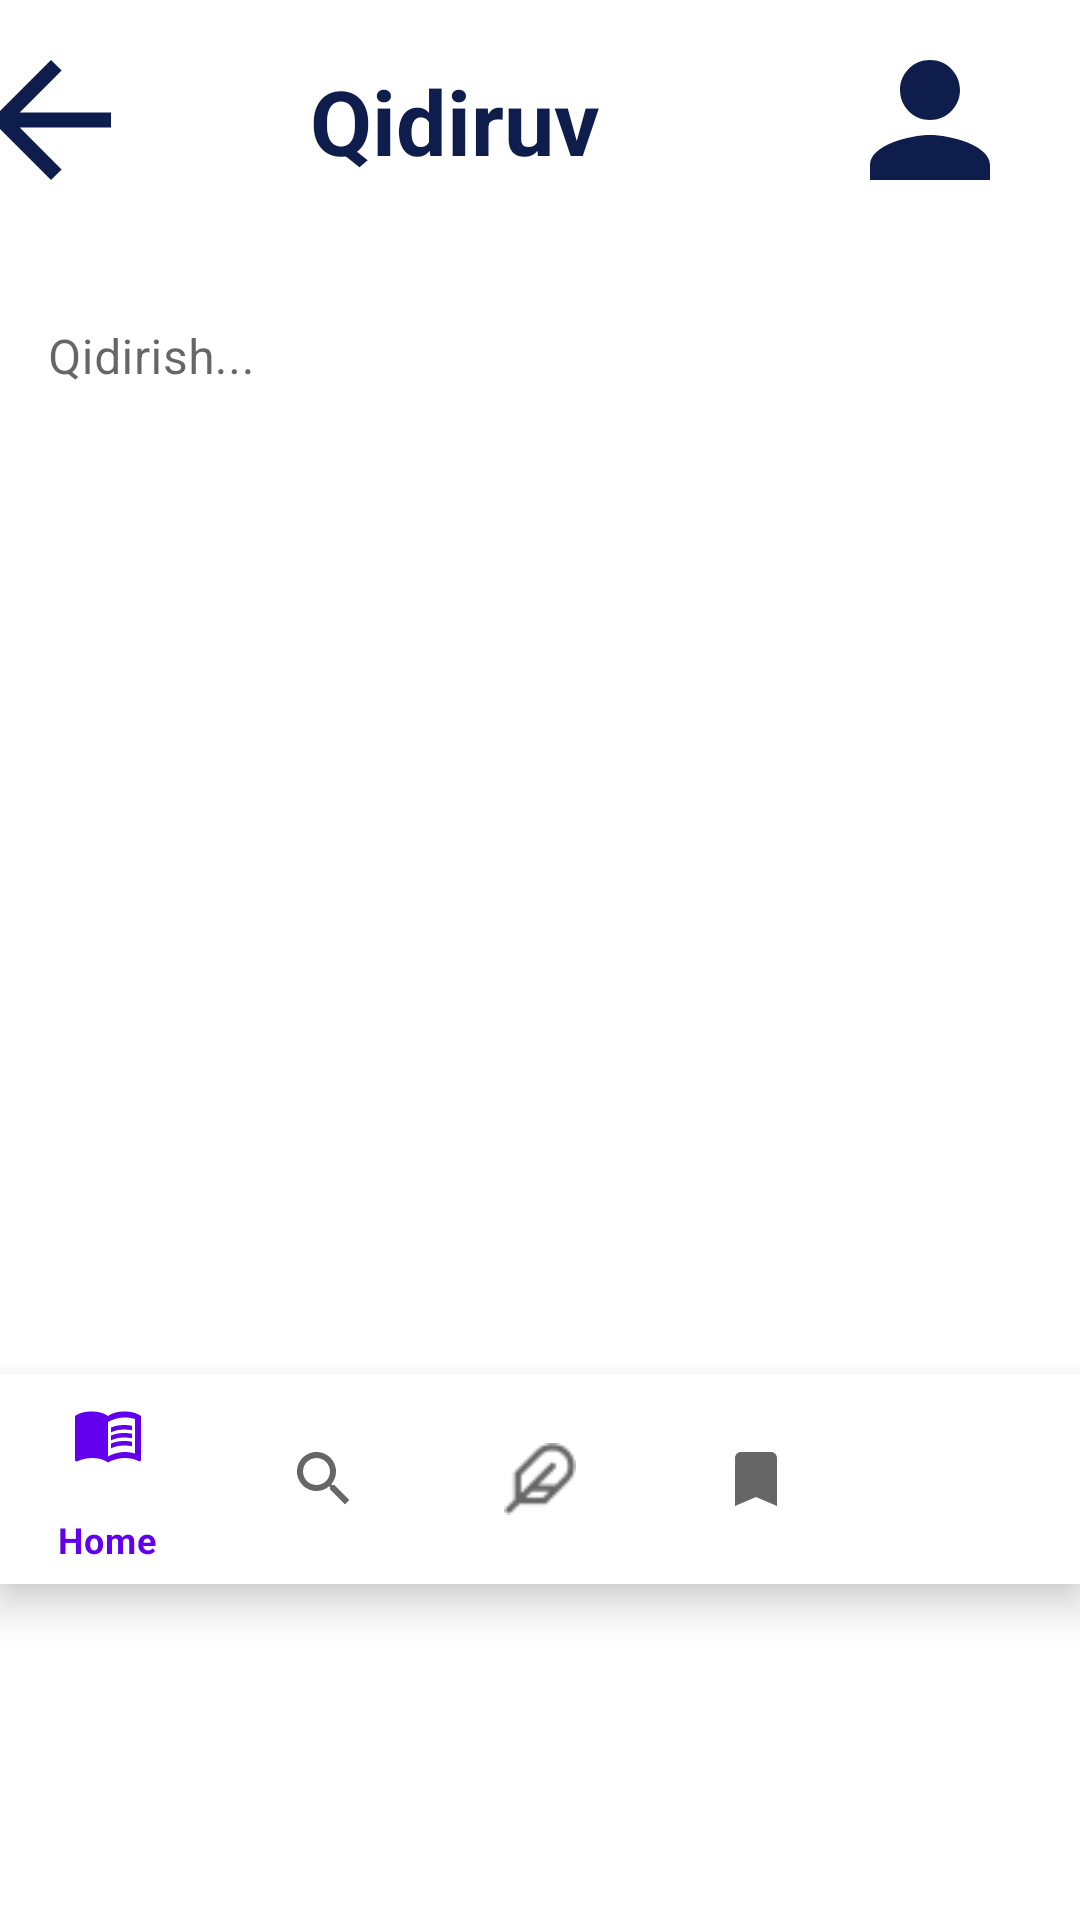

Icon click points for this 1080×1920 phone screenshot, format (x=x, y=y):
person: (x=930, y=120)
